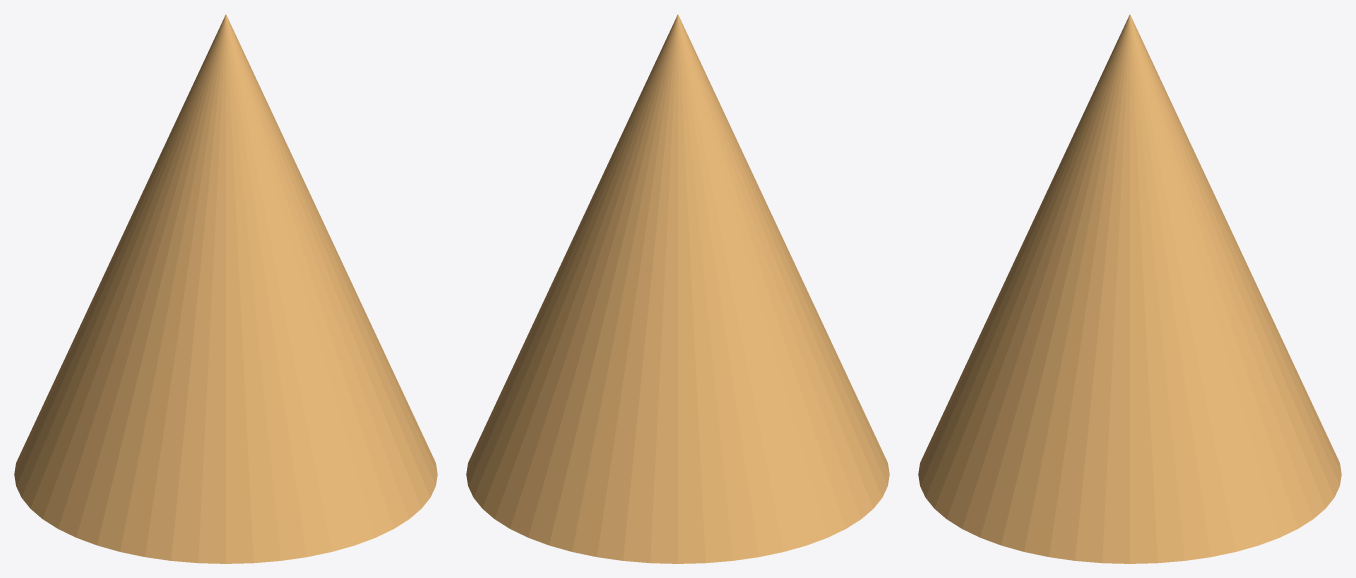
The picture shows the model from 3 angles, left to right: view 1: azimuth 30°, elevation 25°; view 2: azimuth 150°, elevation 25°; view 3: azimuth 270°, elevation 25°; orthographic projection.
Parts seen in each view (by area): view 1: Cone; view 2: Cone; view 3: Cone.
Part boxes in pixels (x1=…): Cone: x1=14, y1=14, x2=437, y2=563; Cone: x1=466, y1=14, x2=889, y2=563; Cone: x1=918, y1=14, x2=1341, y2=563.
Size of the model in its own units: 1 by 1.2 by 1.
